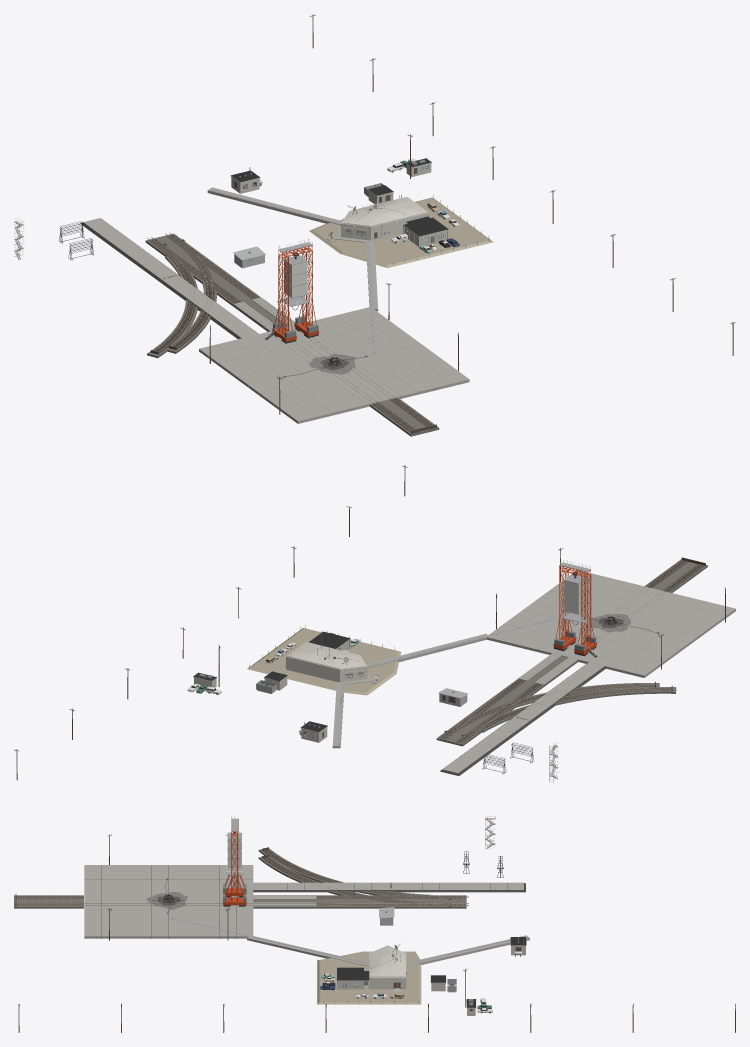
3 renders of one model, top to bottom at view 1: azimuth 30°, elevation 25°; view 2: azimuth 150°, elevation 25°; view 3: azimuth 270°, elevation 25°, orthographic. The views are drawn at different scales.
Visible parts, largest first — view 1: Pad6_Concrete, Track_Ballast, Blockhouse_Shell, Track_Tie, Road_Concrete, Pad6Gantry_Red, Track_Rail, Blockhouse_BunkerRoof, CableTrenches_ConcreteTrench, Track_BallastSpur, Blockhouse_Bunker, Pad6Gantry_Trailer (+2 smaller); view 2: Pad6_Concrete, Track_Ballast, Blockhouse_Shell, Track_Tie, Road_Concrete, Track_Rail, Pad6Gantry_Red, Track_BallastSpur, Blockhouse_BunkerRoof, Blockhouse_Bunker, CableTrenches_ConcreteTrench, Track_Concrete (+2 smaller); view 3: Pad6_Concrete, Track_Ballast, Blockhouse_Shell, Road_Concrete, Track_Rail, Track_Tie, Track_BallastSpur, CableTrenches_ConcreteTrench, Blockhouse_BunkerRoof, Pad6Gantry_Red, Road_Joint, Track_Concrete (+6 smaller).
Part boxes in pixels (box(x1,y1,x2,y2)): Pad6_Concrete: box(199, 307, 469, 423); Track_Ballast: box(145, 233, 439, 436); Blockhouse_Shell: box(309, 197, 493, 267); Track_Tie: box(148, 234, 437, 433); Road_Concrete: box(83, 218, 258, 337); Pad6Gantry_Red: box(272, 245, 318, 341); Track_Rail: box(147, 232, 432, 430); Blockhouse_BunkerRoof: box(342, 197, 427, 225); CableTrenches_ConcreteTrench: box(207, 187, 378, 311); Track_BallastSpur: box(147, 256, 216, 358); Blockhouse_Bunker: box(341, 197, 429, 240); Pad6Gantry_Trailer: box(284, 260, 307, 297); Pad6_Concrete: box(486, 570, 735, 677); Track_Ballast: box(436, 559, 707, 746); Blockhouse_Shell: box(247, 628, 401, 695); Track_Tie: box(439, 557, 705, 743); Road_Concrete: box(443, 662, 604, 773); Track_Rail: box(438, 560, 703, 744); Pad6Gantry_Red: box(553, 565, 596, 654); Track_BallastSpur: box(482, 683, 676, 732); Blockhouse_BunkerRoof: box(288, 642, 366, 668); Blockhouse_Bunker: box(286, 642, 367, 682); CableTrenches_ConcreteTrench: box(332, 633, 487, 748); Track_Concrete: box(518, 653, 577, 684); Pad6_Concrete: box(84, 865, 253, 938); Track_Ballast: box(14, 895, 466, 908); Blockhouse_Shell: box(317, 951, 421, 1004); Road_Concrete: box(253, 882, 523, 889); Track_Rail: box(16, 849, 468, 905); Track_Tie: box(14, 847, 464, 907); Track_BallastSpur: box(258, 848, 430, 895); CableTrenches_ConcreteTrench: box(247, 935, 529, 966); Blockhouse_BunkerRoof: box(370, 945, 405, 976); Pad6Gantry_Red: box(223, 819, 246, 905); Road_Joint: box(253, 883, 525, 892); Track_Concrete: box(253, 895, 316, 906).
Size of the model in its own units: 157 by 34.28 by 260.
